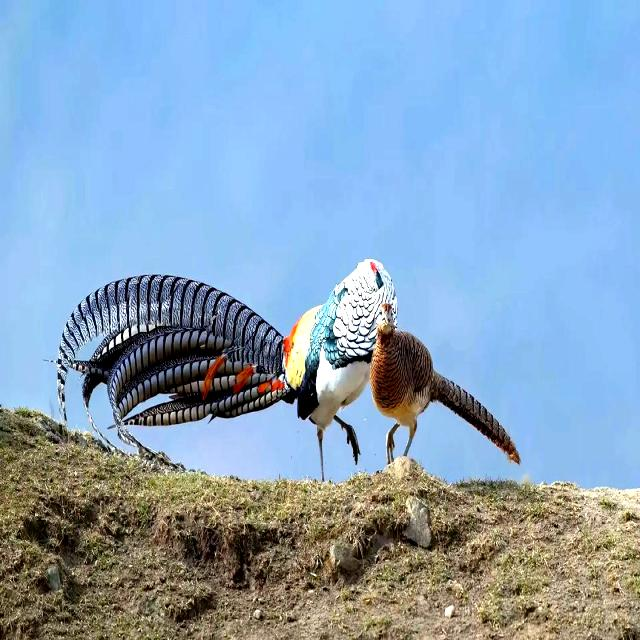Chrysolophus amherstiae: (56, 274, 292, 444)
